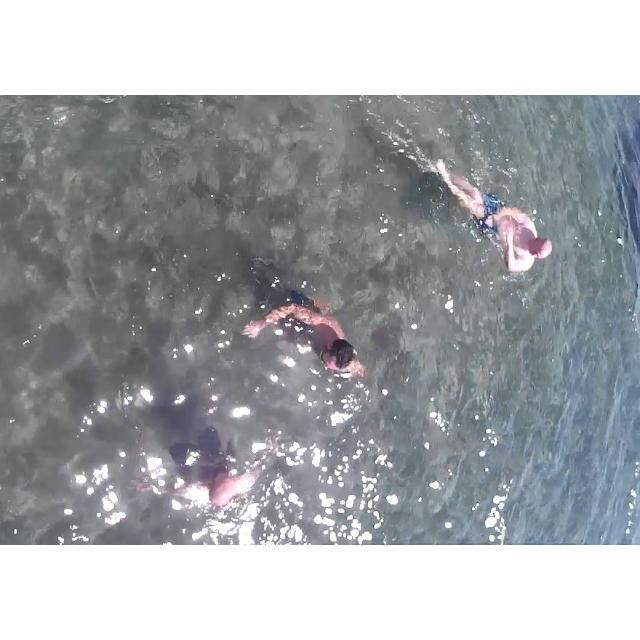human: (235, 257, 371, 393), (430, 144, 549, 281), (150, 410, 274, 514)
